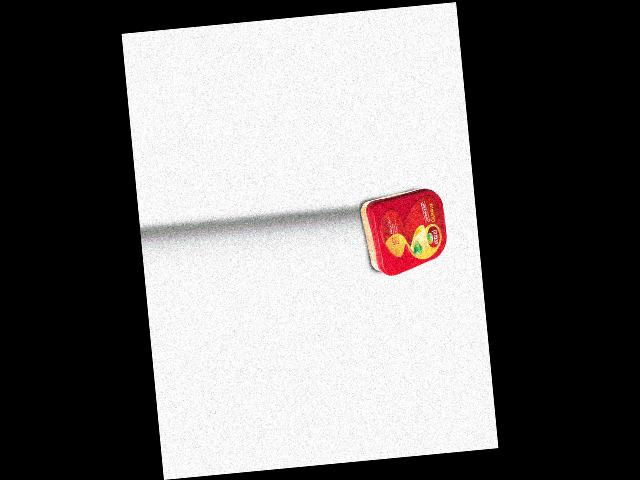cheese: (358, 186, 450, 278)
